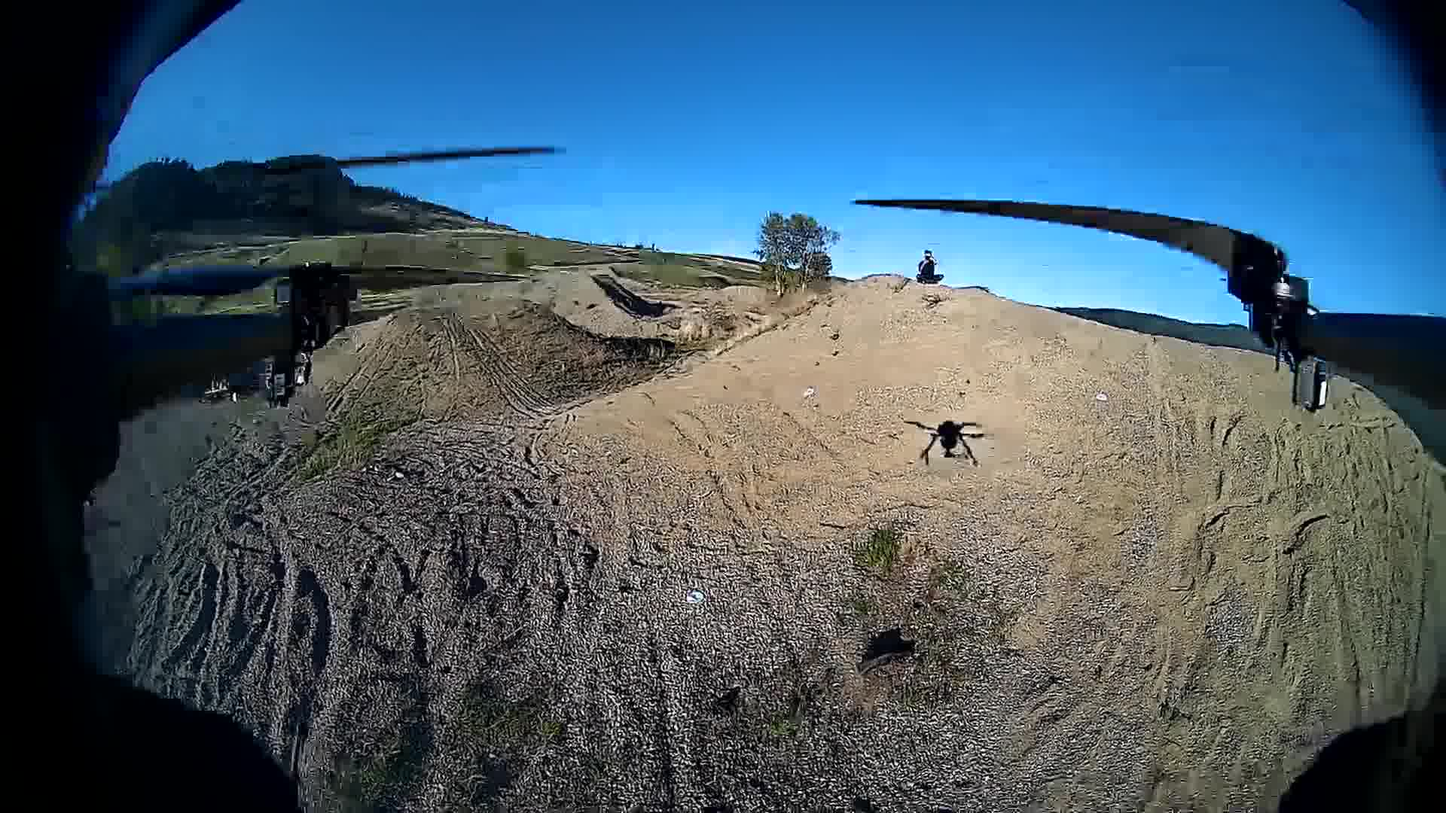Target: (685, 590, 703, 604), (1095, 392, 1107, 401)
